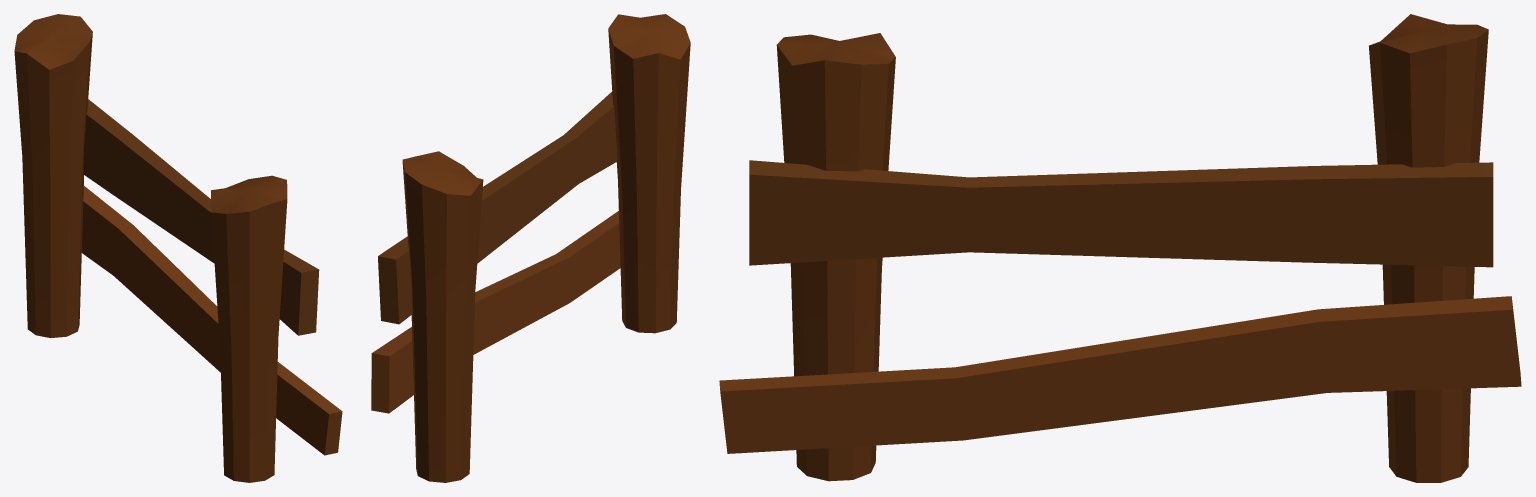
File: fence1.fbx
The picture shows the model from 3 angles, left to right: view 1: azimuth 30°, elevation 25°; view 2: azimuth 150°, elevation 25°; view 3: azimuth 270°, elevation 25°; orthographic projection. The views are drawn at different scales.
Visible parts, largest first — view 1: fence1; view 2: fence1; view 3: fence1.
Boxes of the visible parts, x1,y1,x2,y2 form: fence1: (14,14,342,482); fence1: (371,14,690,482); fence1: (719,14,1521,482).
Bounding box in the file's own units: 0.3479 × 1.12 × 1.82.
